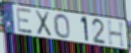1: (79, 15, 90, 44)
2: (91, 18, 107, 46)
E: (15, 8, 34, 36)
H: (106, 20, 127, 49)
O: (52, 13, 71, 40)
X: (34, 9, 52, 38)
